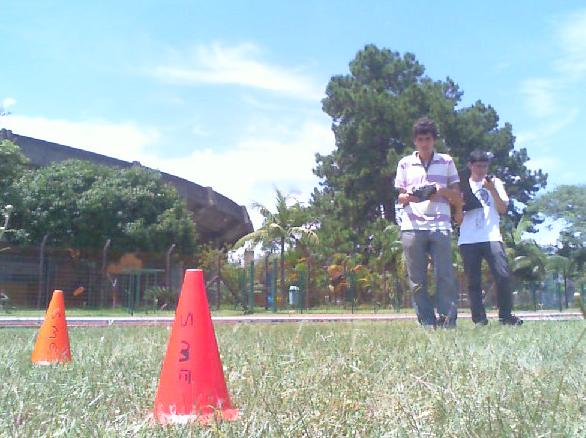0 cone: (142, 269, 241, 426), (31, 290, 72, 368)
